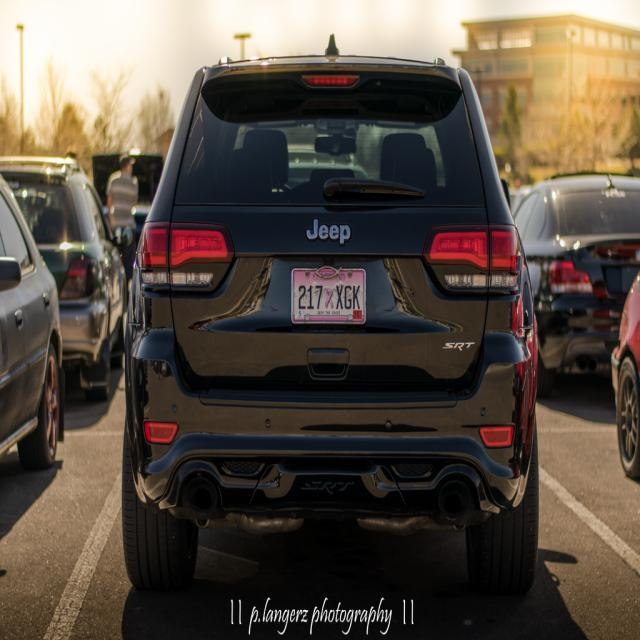car: (121, 40, 551, 594)
